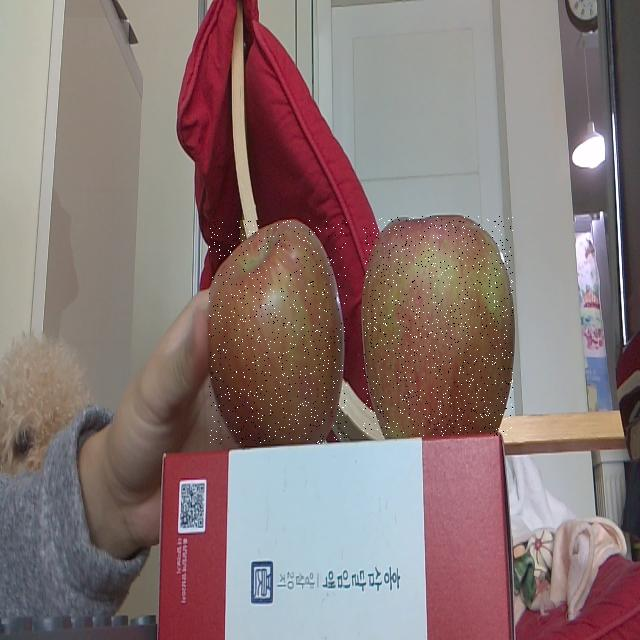apple: (363, 216, 513, 436), (210, 220, 348, 444)
